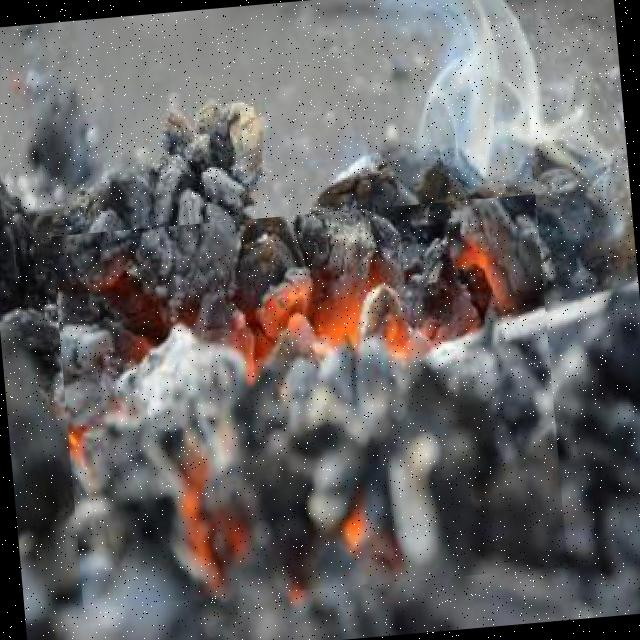fire: (50, 194, 568, 609)
